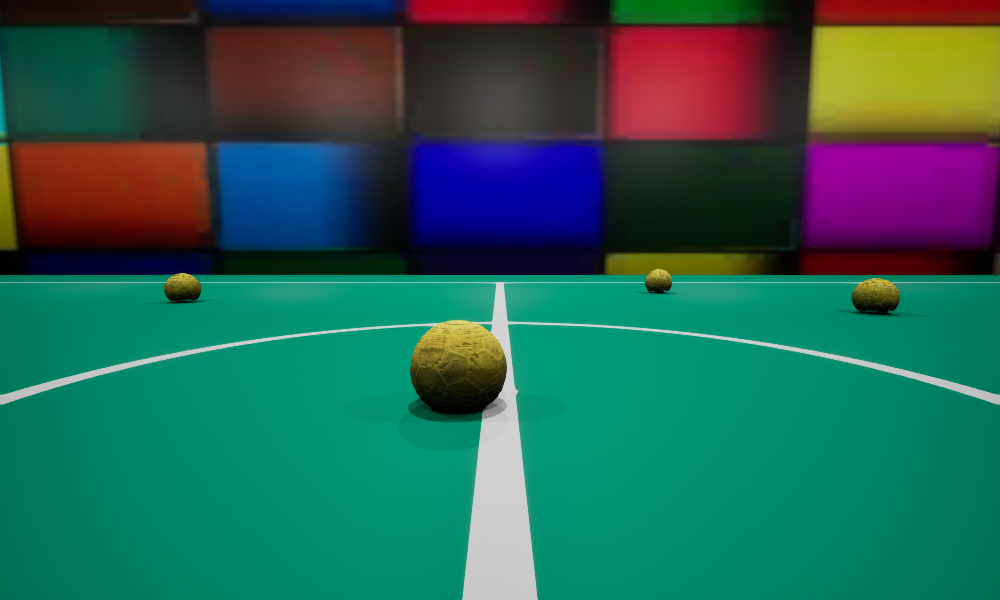b: (410, 320, 506, 412), (852, 278, 899, 313), (164, 273, 200, 302), (645, 269, 671, 292)
